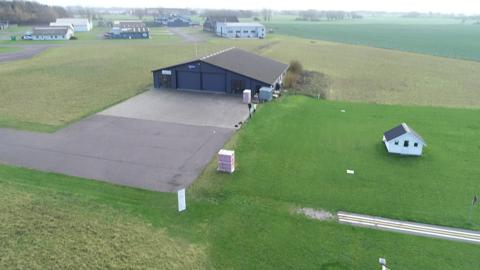RockwoolPallet: (218, 149, 236, 174)
